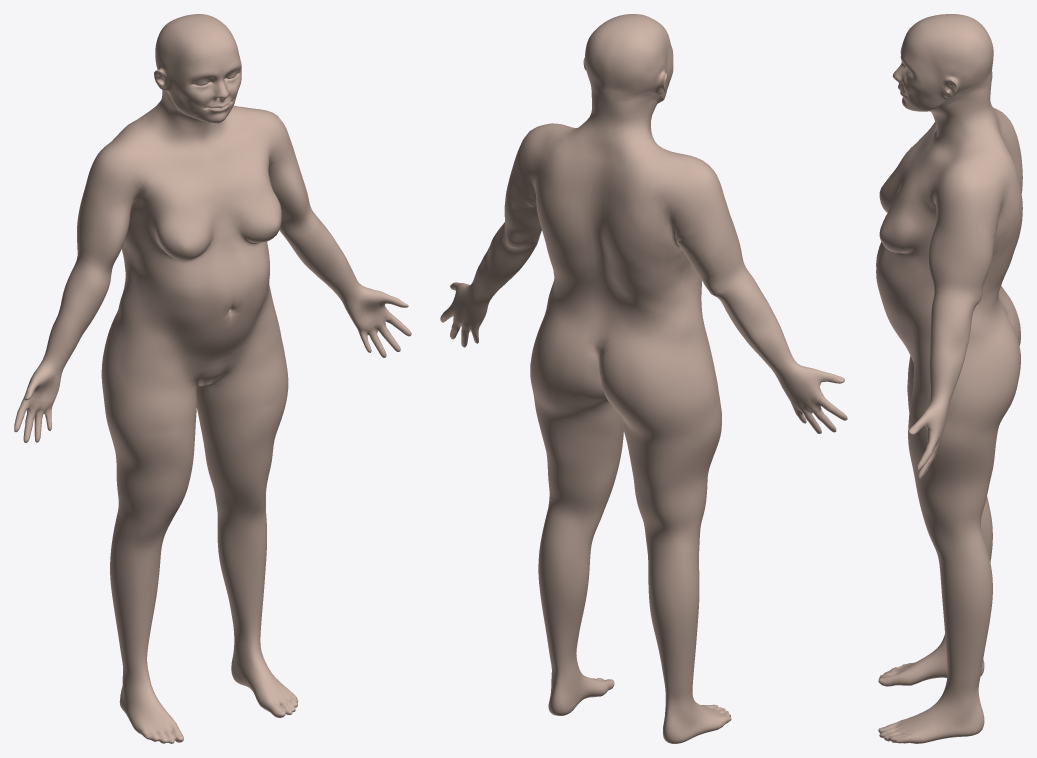
File: VHF_Skin_Low.fbx
The picture shows the model from 3 angles, left to right: view 1: azimuth 30°, elevation 25°; view 2: azimuth 150°, elevation 25°; view 3: azimuth 270°, elevation 25°; orthographic projection. The views are drawn at different scales.
Visible parts, largest first — view 1: VHF_Skin_Low; view 2: VHF_Skin_Low; view 3: VHF_Skin_Low.
Part boxes in pixels (box(x1,y1,x2,y2)): VHF_Skin_Low: box(14, 14, 411, 743); VHF_Skin_Low: box(440, 14, 847, 743); VHF_Skin_Low: box(876, 14, 1022, 743).
Bounding box in the file's own units: 1200 × 1983 × 381.
